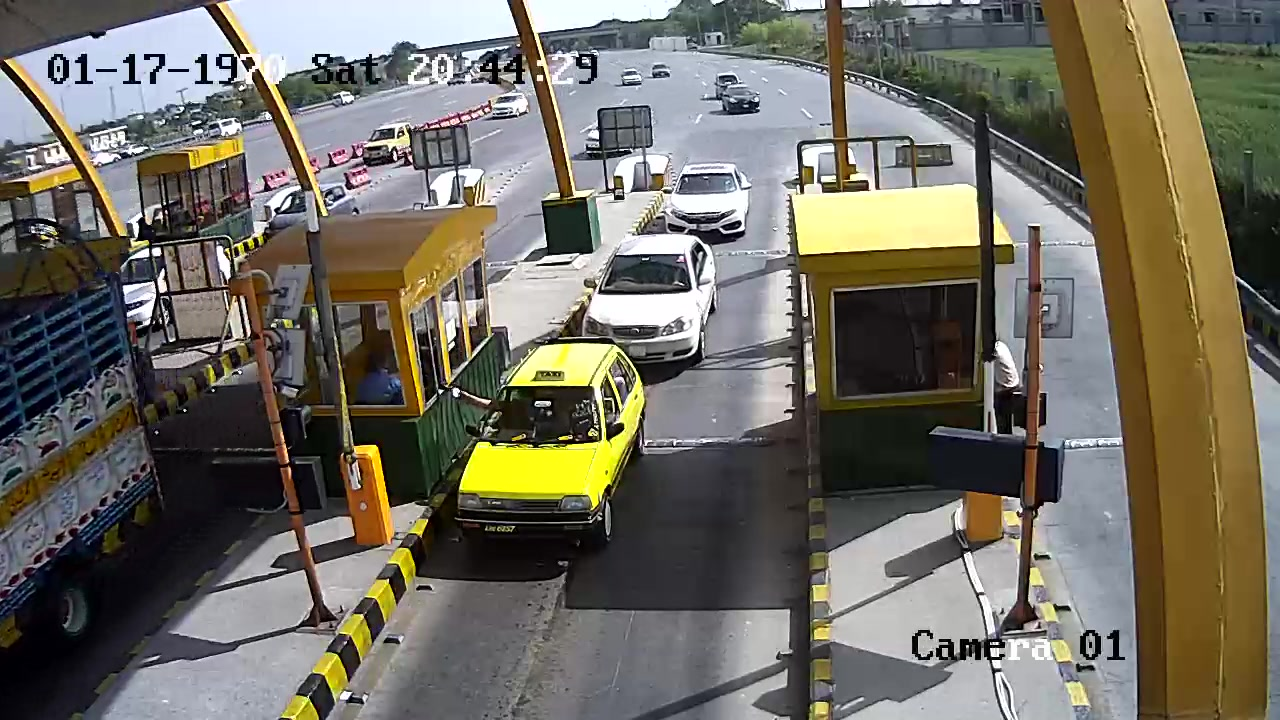F1: (446, 329, 651, 545)
